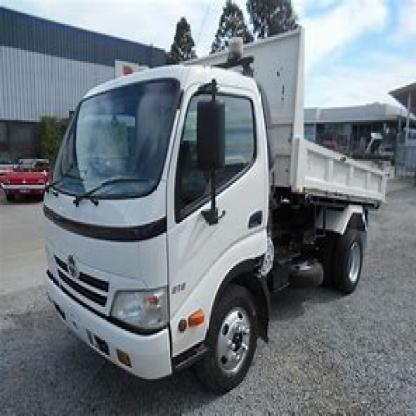dump_truck: (17, 26, 389, 397)
